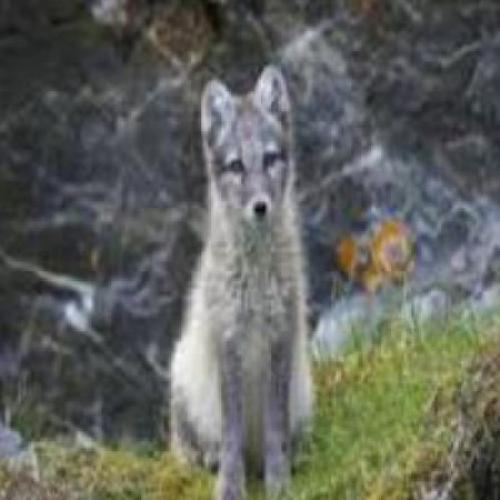arctic_fox-endangered: (172, 65, 314, 500)
